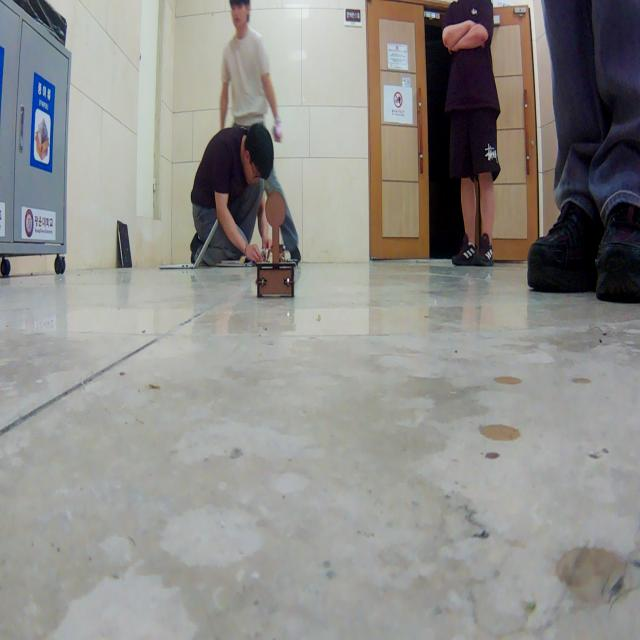target: (257, 191, 295, 297)
